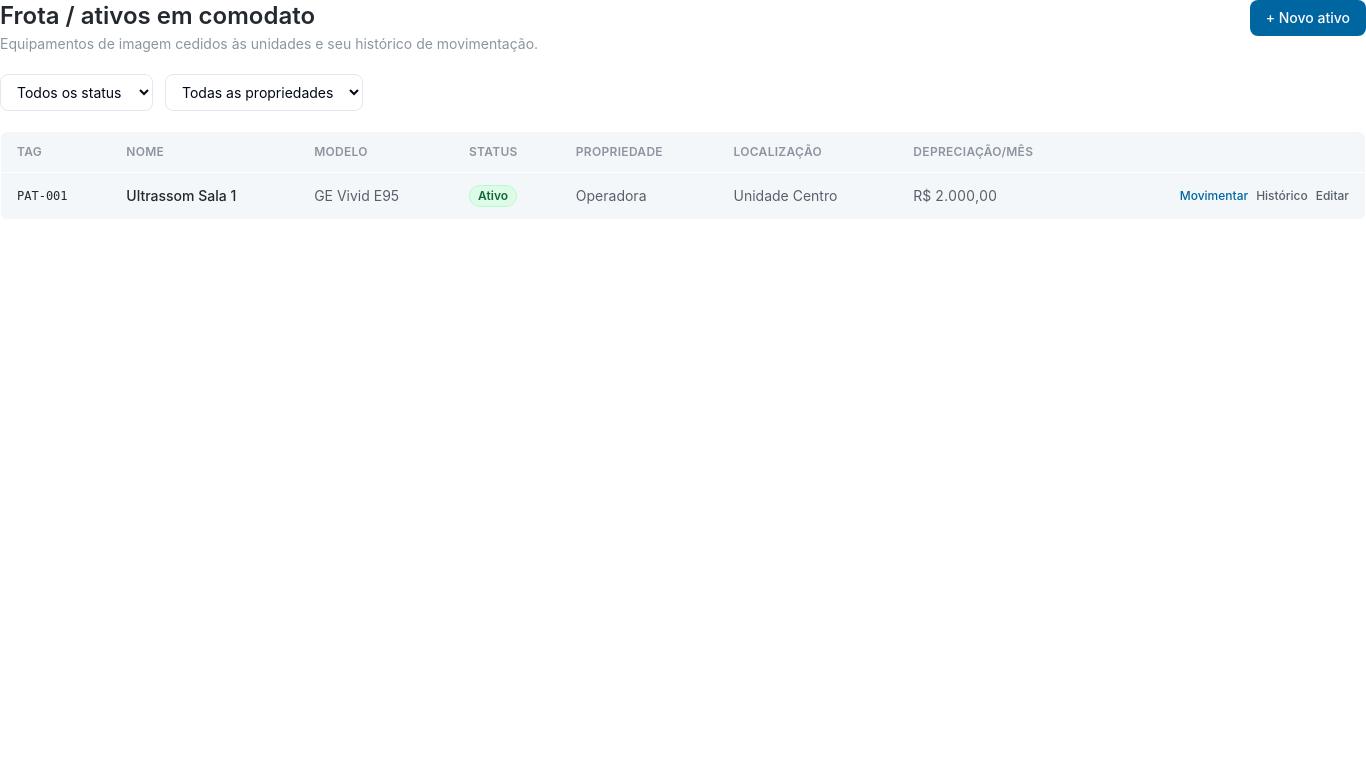
Scenario: AtivosPage › opens the create form when clicking + Novo ativo
This screenshot has width=1366, height=768.
Expected: the text "PAT-001" is shown, 1,172 -> 110,220
Click the button "+ Novo ativo" at (1308, 18), box 1250,0 -> 1365,36
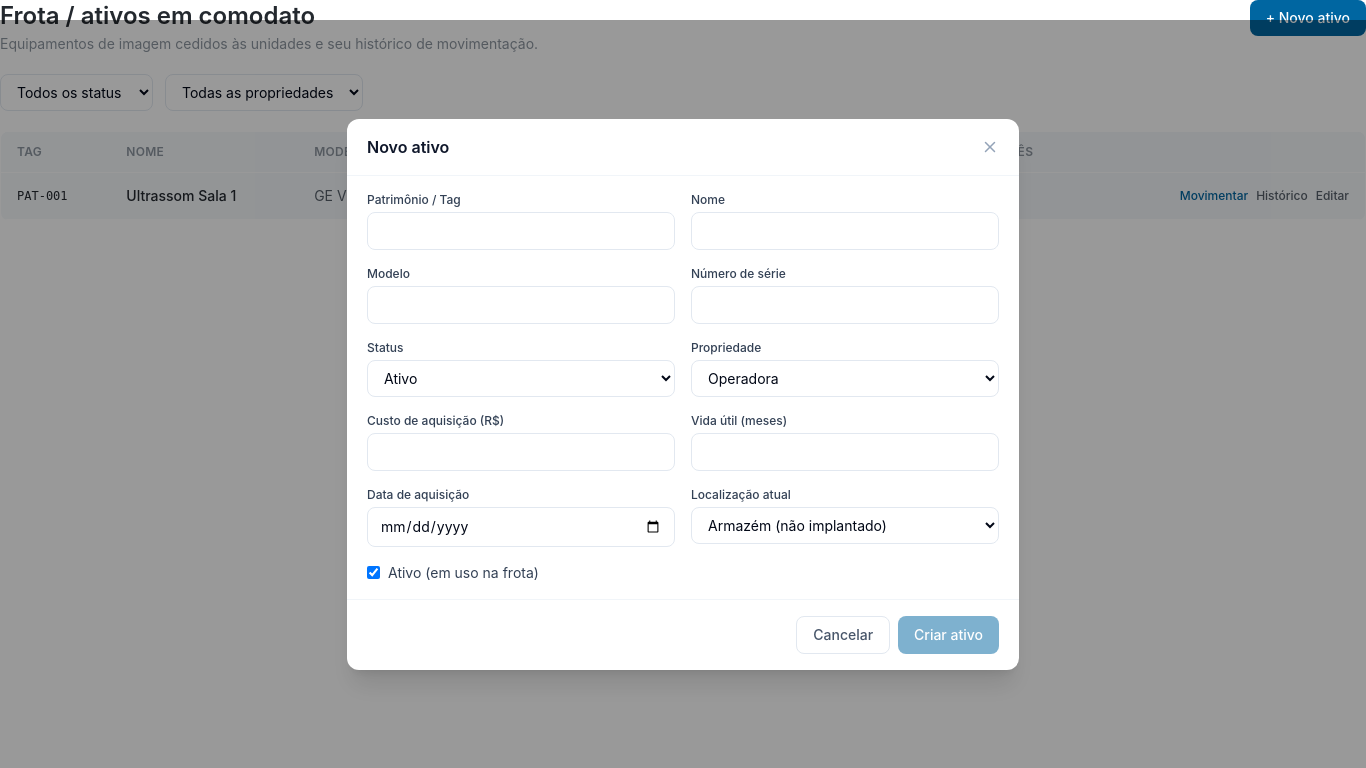
Expected: the button "Criar ativo" is shown, 898,616 -> 999,654
